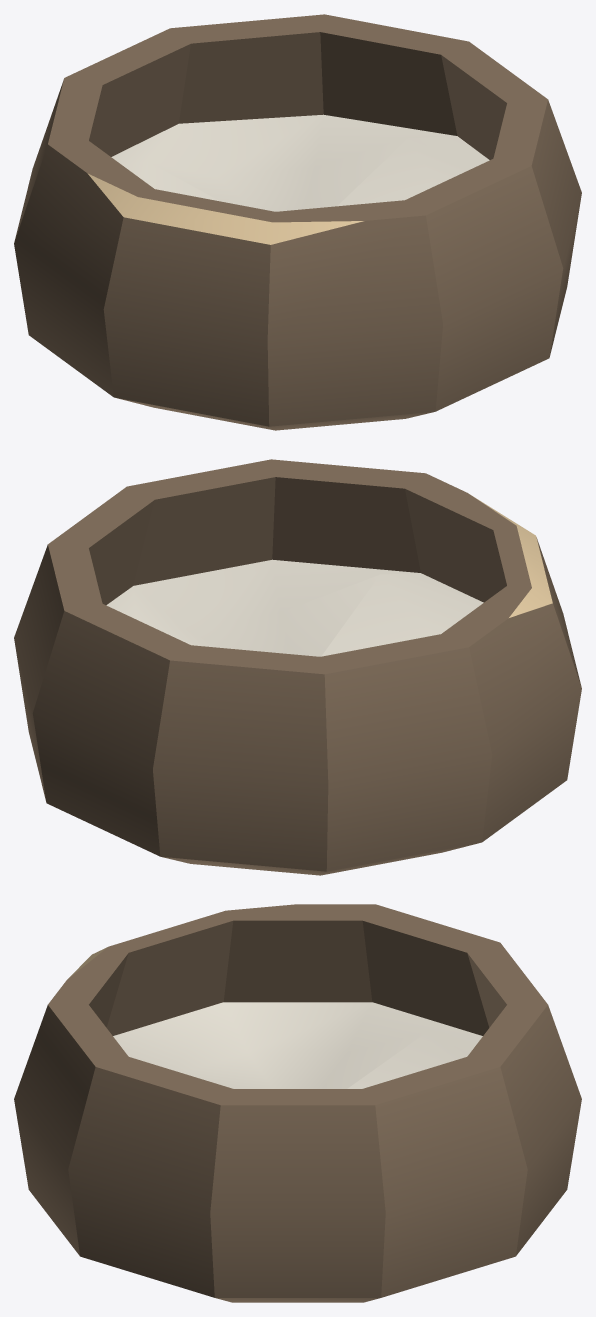
The model's file is EA_Items_House_bowl_wod_powder_01a.glb.
3 renders of one model, top to bottom at view 1: azimuth 30°, elevation 25°; view 2: azimuth 150°, elevation 25°; view 3: azimuth 270°, elevation 25°, orthographic. The views are drawn at different scales.
Visible parts, largest first — view 1: EA_Items_House_bowl_wod_powder_01a; view 2: EA_Items_House_bowl_wod_powder_01a; view 3: EA_Items_House_bowl_wod_powder_01a.
Boxes of the visible parts, left/top/right/bottom form: EA_Items_House_bowl_wod_powder_01a: left=14, top=14, right=581, bottom=430; EA_Items_House_bowl_wod_powder_01a: left=14, top=459, right=581, bottom=875; EA_Items_House_bowl_wod_powder_01a: left=14, top=904, right=581, bottom=1302.
Size of the model in its own units: 0.2286 by 0.0996 by 0.2403.
1 material, 1 textured.
